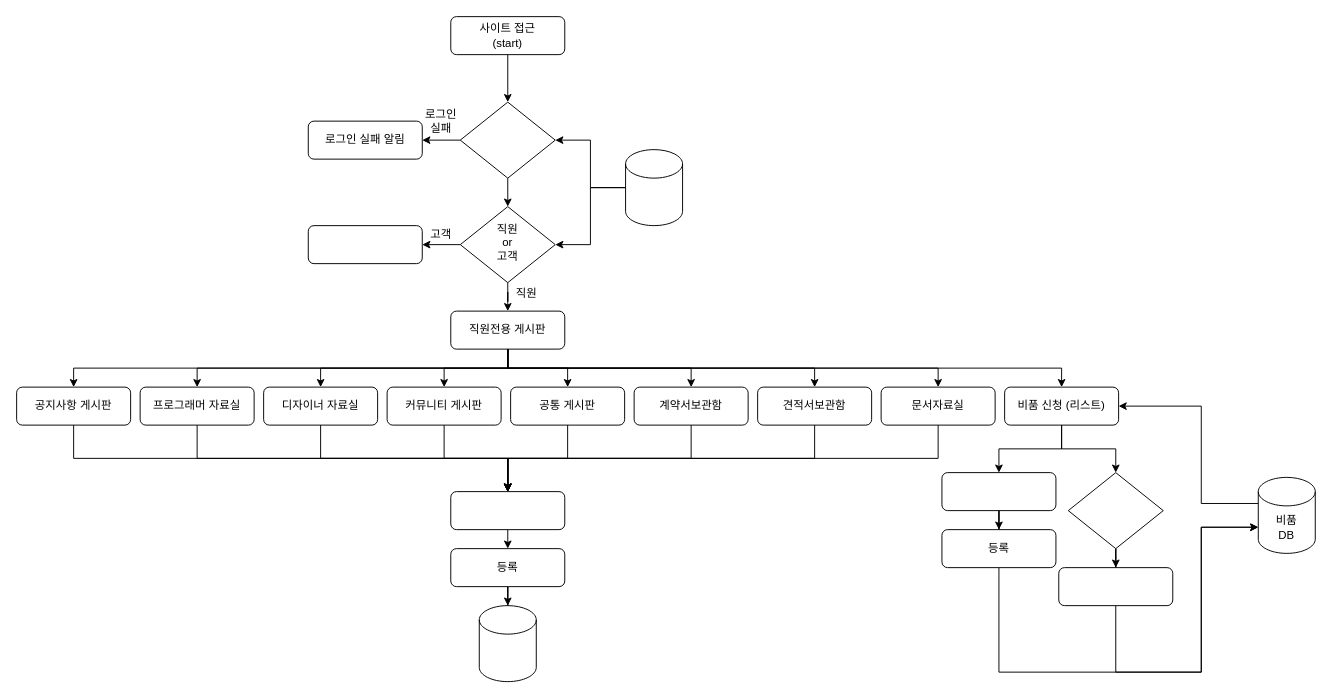
Image size: 1332x698. Some labels were removed from this diagram. The centre of each missing label's shape, as x and y in pixels:
DB: the point at 507,643
게시물 작성: the point at 507,510
고객 페이지: the point at 364,244
담당자 = 본인: the point at 1115,510
로그인: the point at 507,139
비품 신청 작성: the point at 998,491
비품 신청 처리상태 변경: the point at 1115,586
회원DB: the point at 654,187
